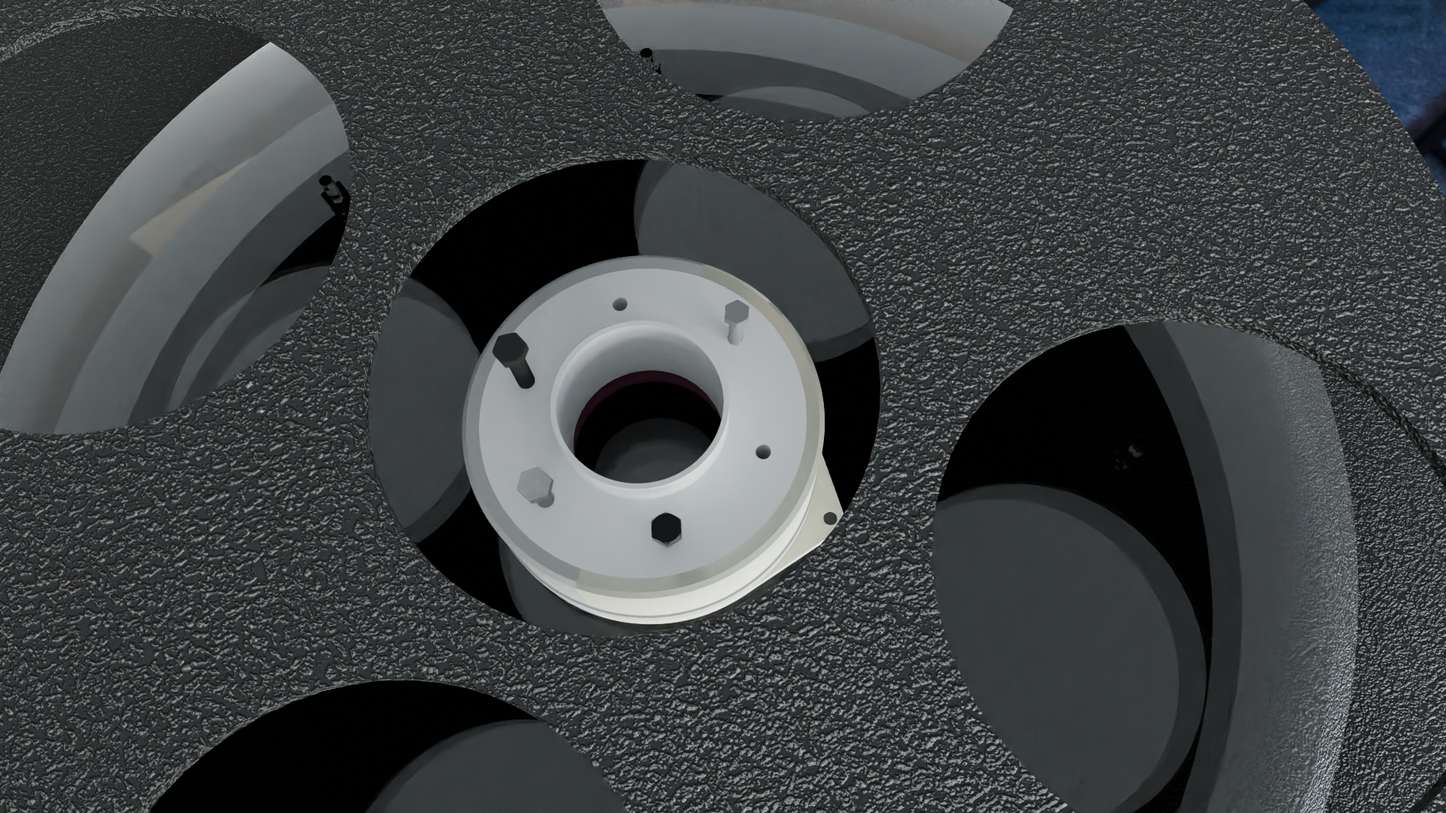bolt: (517, 467, 552, 501), (651, 512, 682, 546), (493, 333, 526, 364), (725, 300, 749, 325)
